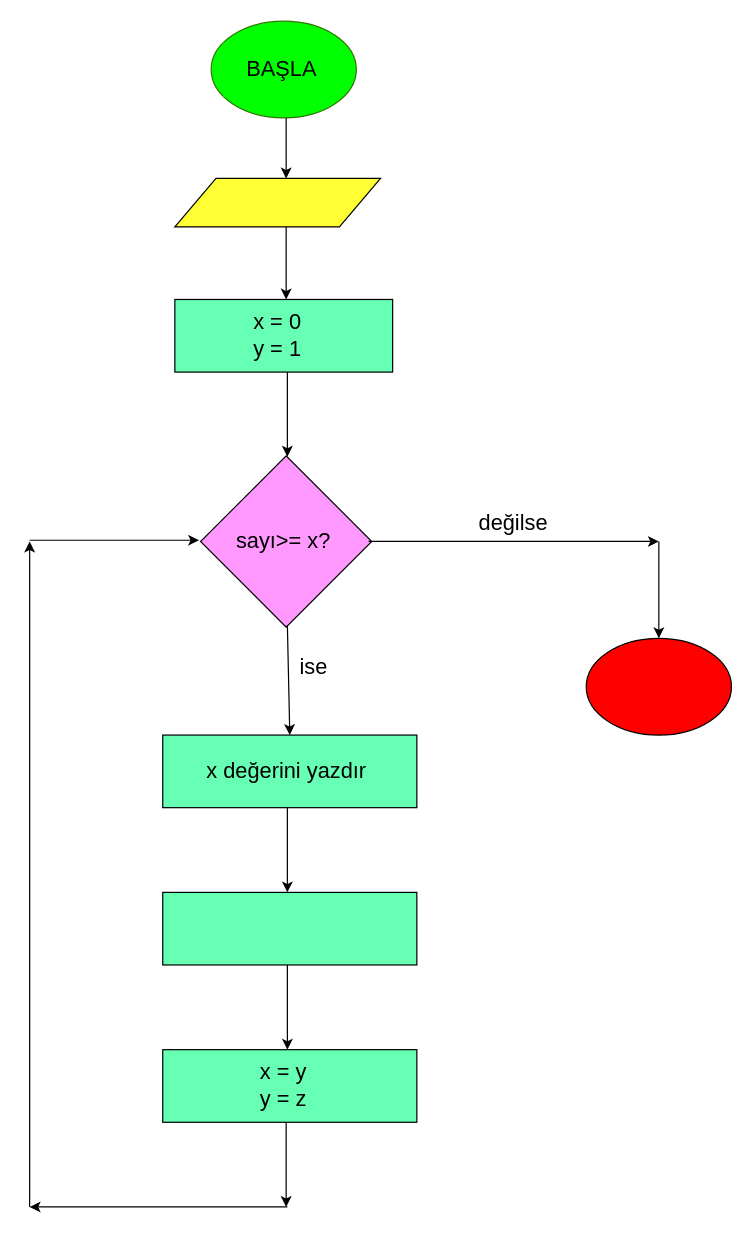
Image size: 753x1238. Some labels were removed from this diagram. Here are the shapes that lost their labels. From the top down, the box of each, then its label:
(174, 177, 381, 227): Sayıyı Oku
(585, 637, 731, 735): BİTİR
(162, 891, 417, 965): z = x + y
